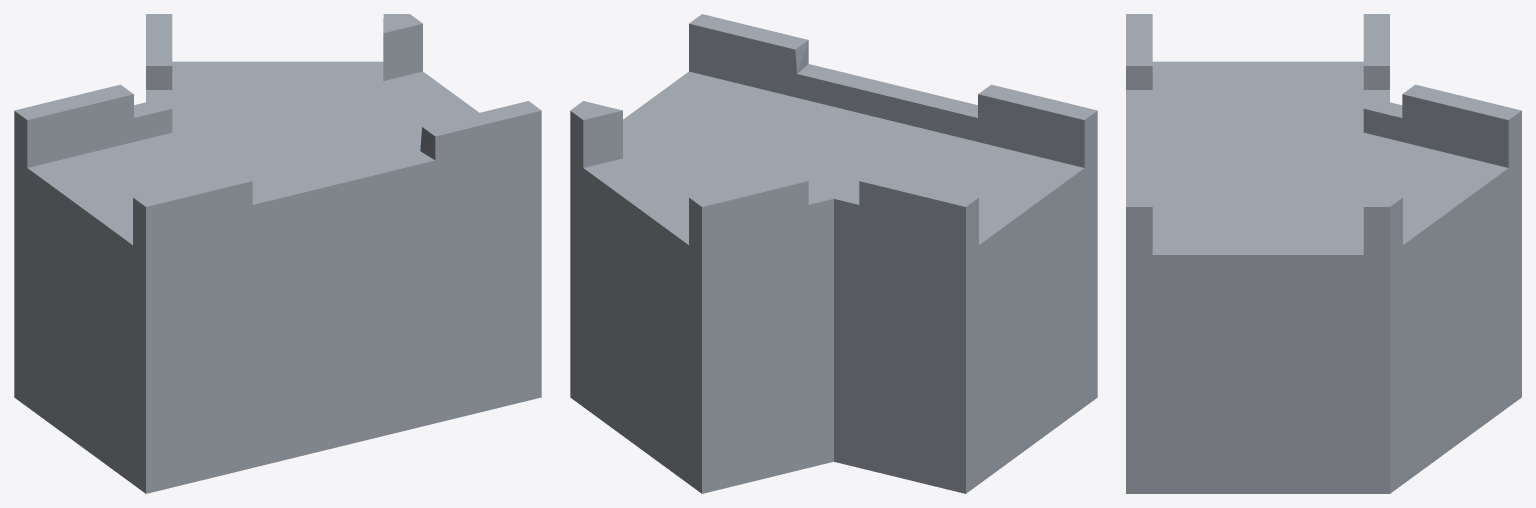
File: wall_top_cross1.fbx
3 views of the same model, side by side, from view 1: azimuth 30°, elevation 25°; view 2: azimuth 150°, elevation 25°; view 3: azimuth 270°, elevation 25° (orthographic).
Parts seen in each view (by area): view 1: Cylinder; view 2: Cylinder; view 3: Cylinder.
Boxes of the visible parts, left/top/right/bottom form: Cylinder: left=14, top=14, right=541, bottom=493; Cylinder: left=570, top=14, right=1097, bottom=493; Cylinder: left=1126, top=14, right=1521, bottom=493.
Size of the model in its own units: 1.73 by 1.2 by 1.5.
